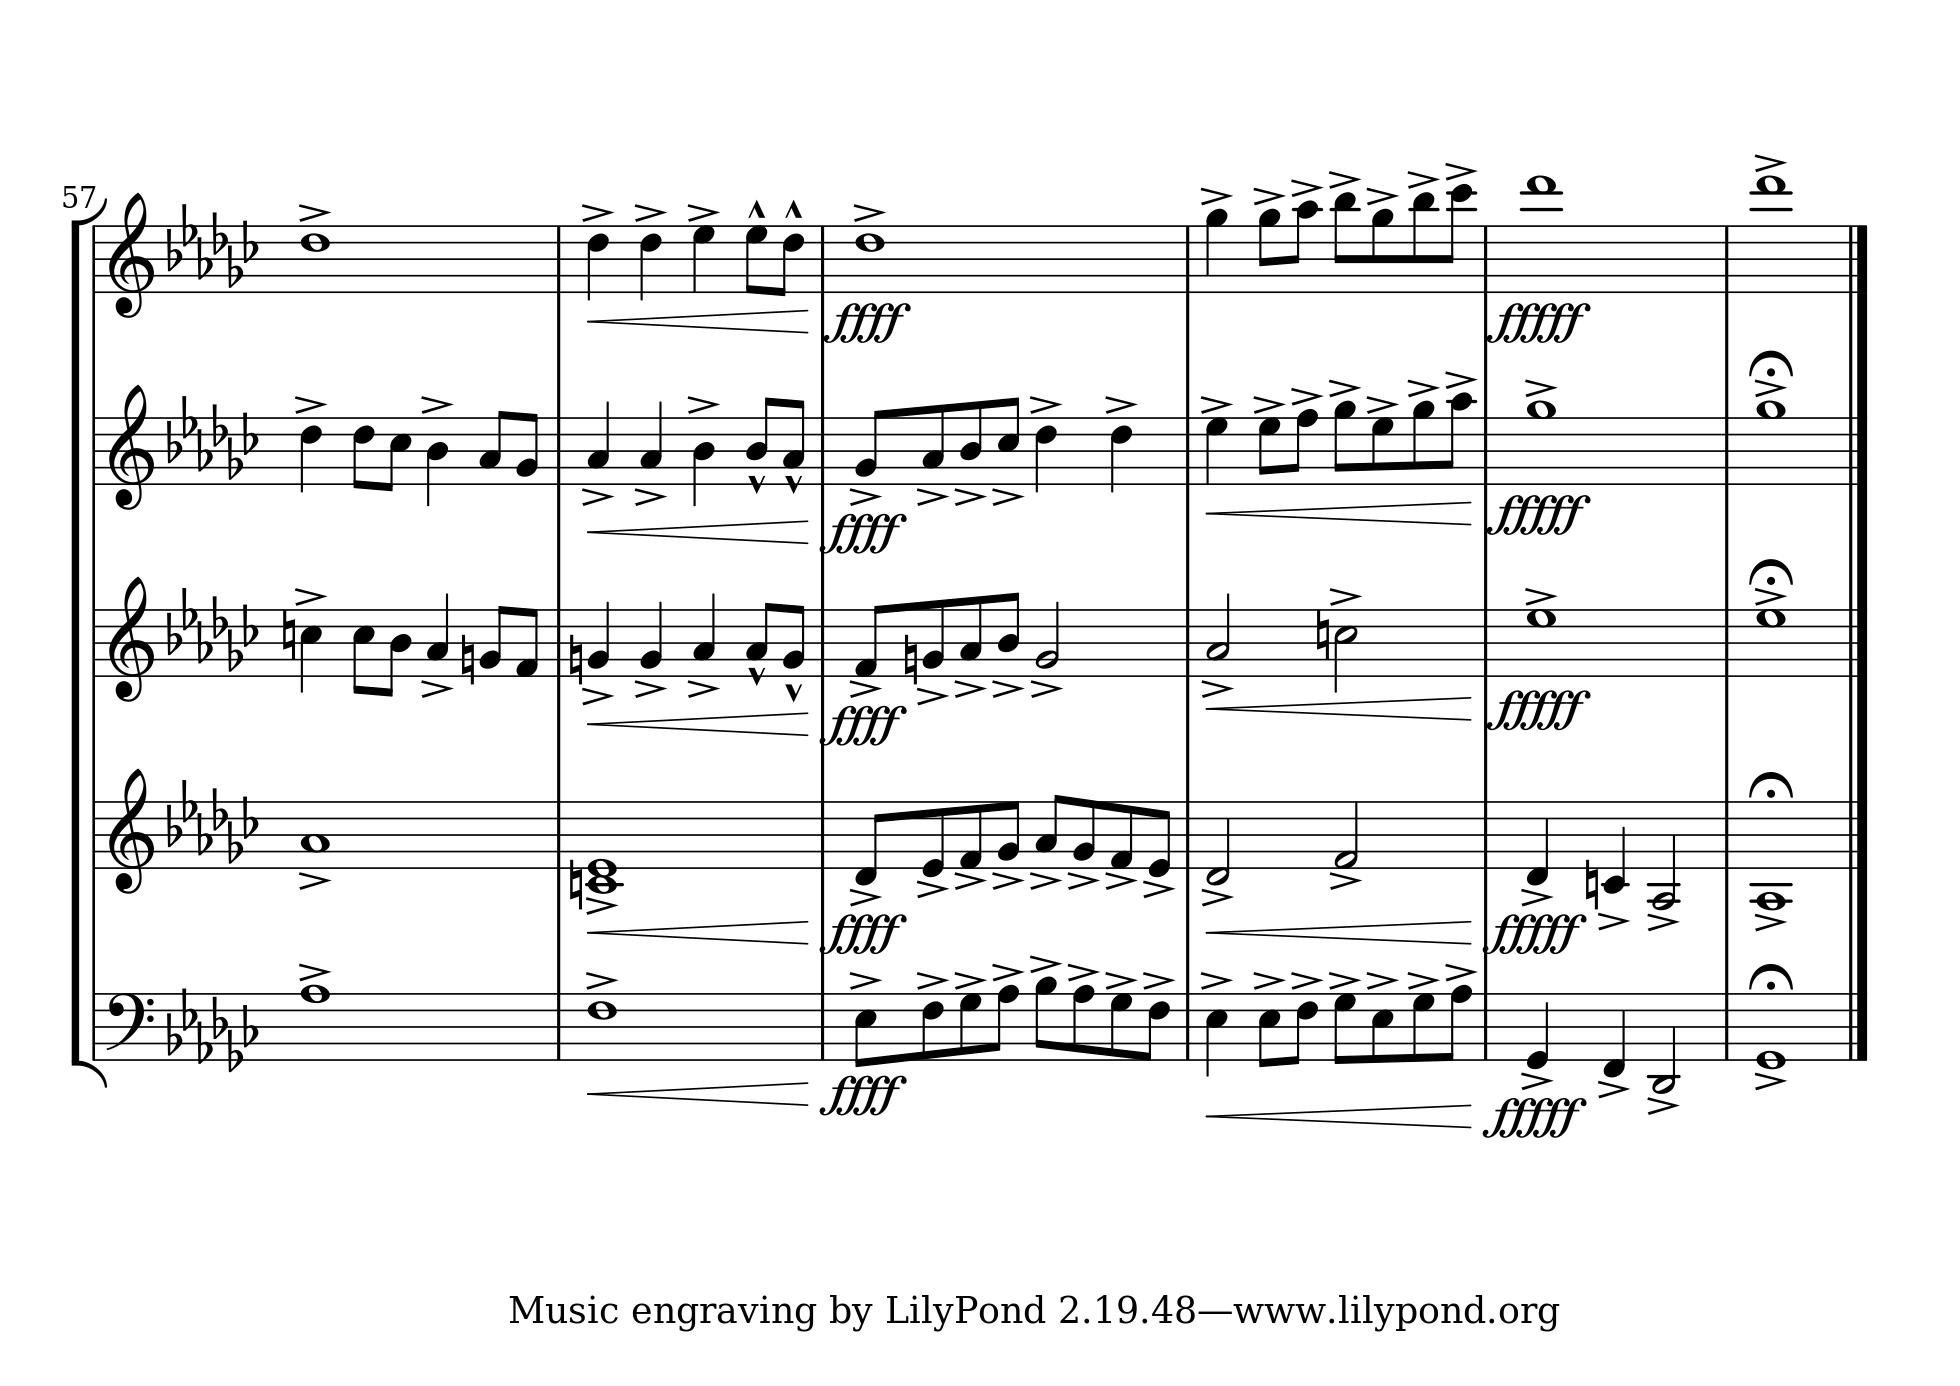1_-4: (1749, 798, 1792, 910)
1_0: (1755, 990, 1788, 1069)
1_13: (1521, 172, 1563, 292), (1752, 172, 1791, 295)
1_3: (298, 799, 330, 868)
1_6: (853, 223, 886, 295), (585, 991, 618, 1063), (300, 223, 331, 295)
1_7: (1524, 604, 1560, 678), (1753, 607, 1788, 678)
1_8: (298, 984, 333, 1063)
1_9: (1524, 397, 1558, 486), (1753, 400, 1788, 486)
2_-1: (1203, 798, 1233, 885)
2_-3: (1648, 988, 1680, 1092)
2_-4: (1647, 799, 1680, 910)
2_1: (1333, 798, 1362, 870)
2_2: (1035, 598, 1063, 678)
2_3: (1204, 589, 1233, 678)
2_5: (1332, 607, 1359, 694)
4_-1: (1524, 799, 1552, 885), (1600, 990, 1627, 1077)
4_-2: (1600, 798, 1629, 894)
4_0: (1524, 990, 1551, 1069)
4_2: (637, 598, 664, 676), (586, 598, 612, 678)
4_3: (424, 591, 451, 676), (691, 589, 717, 676), (639, 399, 664, 484), (586, 399, 610, 484)
4_4: (424, 415, 448, 508), (691, 415, 715, 507)
4_5: (1204, 991, 1230, 1078), (298, 607, 322, 694)
4_6: (637, 223, 663, 303), (1108, 414, 1134, 493), (1033, 415, 1059, 493), (298, 415, 322, 493), (586, 223, 609, 301)
4_7: (1203, 415, 1230, 486), (690, 223, 715, 294)
4_9: (1204, 207, 1230, 295)
5: (58, 181, 81, 214)
7: (75, 183, 100, 210)
8_-1: (852, 798, 886, 886)
8_0: (919, 799, 946, 877), (1147, 798, 1173, 877)
8_1: (852, 601, 888, 678), (1108, 798, 1135, 871), (514, 606, 540, 678), (958, 798, 984, 870)
8_10: (1441, 391, 1476, 487), (1288, 199, 1321, 294)
8_11: (1410, 190, 1440, 295), (1330, 190, 1359, 294)
8_12: (1440, 181, 1476, 292)
8_2: (853, 406, 886, 484), (478, 603, 508, 676), (919, 597, 946, 676), (1071, 796, 1098, 870), (514, 411, 540, 486), (781, 601, 807, 676), (996, 798, 1020, 868)
8_3: (478, 408, 508, 486), (1035, 792, 1065, 868), (919, 402, 946, 486), (744, 600, 774, 675), (957, 594, 984, 676), (781, 397, 805, 484)
8_4: (382, 607, 412, 697), (745, 394, 775, 483), (958, 399, 984, 486), (996, 589, 1021, 676)
8_5: (996, 394, 1021, 487), (382, 415, 412, 493), (351, 606, 375, 696), (853, 991, 877, 1068), (1257, 991, 1281, 1068), (1371, 991, 1395, 1063)
8_6: (1140, 991, 1173, 1063), (1290, 991, 1320, 1066), (775, 225, 805, 298), (919, 991, 945, 1063), (351, 415, 375, 490)
8_7: (1332, 990, 1357, 1065), (1108, 991, 1134, 1062), (1410, 991, 1435, 1062), (957, 991, 982, 1060), (744, 223, 768, 295), (1371, 415, 1395, 487), (1257, 415, 1281, 486)
8_8: (1441, 982, 1474, 1063), (1288, 406, 1320, 487), (990, 982, 1020, 1060), (1071, 982, 1095, 1062)
8_9: (1369, 207, 1396, 295), (1332, 399, 1359, 487), (1410, 399, 1437, 487), (1033, 975, 1059, 1062), (1257, 207, 1281, 294)
Accent_above: (1423, 165, 1476, 186), (1084, 961, 1135, 982), (1300, 172, 1347, 192), (1287, 384, 1326, 405), (1026, 952, 1065, 973), (1288, 175, 1326, 196), (988, 958, 1026, 979), (418, 393, 453, 415), (1326, 168, 1365, 187), (1326, 376, 1365, 396), (1251, 184, 1287, 205), (1404, 376, 1440, 397), (1251, 391, 1287, 412), (292, 393, 328, 414), (292, 585, 328, 606), (418, 676, 454, 697), (1102, 969, 1140, 988), (1752, 378, 1788, 397), (631, 486, 667, 505), (1200, 886, 1236, 906), (952, 967, 988, 987), (1200, 184, 1233, 205), (580, 201, 613, 222), (1444, 367, 1477, 388), (1524, 376, 1557, 397), (1104, 393, 1137, 414), (990, 868, 1023, 889), (1404, 169, 1441, 187), (1363, 186, 1401, 204), (1363, 394, 1401, 412), (1065, 961, 1102, 979), (297, 201, 331, 220), (685, 678, 720, 697), (952, 678, 987, 697), (1200, 678, 1234, 697), (297, 870, 331, 889), (297, 960, 331, 979), (1143, 877, 1174, 898), (1752, 151, 1788, 169), (1443, 160, 1479, 178), (685, 202, 721, 220), (1752, 586, 1788, 604), (1327, 871, 1363, 889), (583, 895, 619, 913), (852, 202, 885, 222), (1029, 393, 1062, 412), (685, 394, 718, 414), (580, 486, 613, 505), (1524, 585, 1557, 604), (580, 684, 613, 703), (1596, 910, 1629, 930), (847, 969, 880, 988), (1290, 969, 1323, 988), (1647, 1095, 1680, 1114), (1200, 393, 1230, 414), (633, 202, 667, 220), (633, 679, 667, 697), (915, 969, 949, 987), (952, 486, 984, 505), (991, 486, 1023, 505), (849, 678, 880, 697), (991, 678, 1023, 697), (1029, 868, 1060, 888), (952, 870, 984, 889), (1066, 870, 1098, 889), (1104, 870, 1135, 889), (1755, 912, 1786, 931), (1143, 969, 1174, 988), (1329, 969, 1360, 988), (1329, 586, 1362, 604), (1521, 886, 1554, 904), (583, 970, 616, 988), (1200, 970, 1233, 988), (1521, 1069, 1554, 1087), (1596, 1080, 1629, 1098), (916, 877, 946, 897), (849, 486, 880, 504), (1030, 678, 1062, 696), (849, 886, 880, 904), (1252, 970, 1284, 988), (1753, 1071, 1785, 1089), (1647, 913, 1680, 930), (916, 487, 946, 505), (916, 685, 946, 703)
Bracke: (67, 202, 109, 1090)
Fclef: (102, 991, 154, 1062)
Fermata_above: (1749, 348, 1794, 378), (1749, 558, 1792, 586), (1749, 769, 1792, 796), (1749, 961, 1792, 988)
Final_barline: (1845, 223, 1870, 289), (1845, 415, 1869, 483), (1845, 799, 1869, 867), (1845, 607, 1869, 673), (1845, 993, 1869, 1057)
G_F: (163, 583, 262, 672), (163, 391, 261, 478), (165, 775, 261, 862), (165, 201, 261, 286), (166, 985, 259, 1069)
Gclef: (106, 574, 156, 705), (106, 382, 154, 513), (106, 766, 154, 895), (106, 192, 154, 319)
Marcato_above: (781, 199, 801, 220), (747, 472, 766, 493), (784, 472, 804, 493), (748, 664, 766, 687), (747, 199, 765, 219), (784, 681, 802, 700)
Natural: (1314, 607, 1332, 661), (567, 855, 583, 910), (901, 631, 918, 684), (1584, 856, 1600, 909), (567, 631, 583, 682), (460, 631, 475, 685), (280, 607, 295, 660)
Single_barline: (1476, 226, 1494, 292), (1179, 609, 1197, 675), (1179, 801, 1197, 867), (1476, 801, 1494, 867), (1179, 226, 1197, 291), (813, 802, 831, 867), (550, 993, 568, 1057), (550, 607, 567, 676), (1180, 991, 1197, 1060), (1182, 417, 1198, 484), (1719, 225, 1735, 291), (1477, 993, 1494, 1059), (550, 226, 567, 291), (85, 418, 102, 483), (1477, 609, 1494, 673), (1719, 609, 1735, 673), (85, 610, 102, 675), (550, 801, 567, 865), (1717, 801, 1734, 865), (85, 802, 102, 867), (85, 993, 102, 1057), (1719, 418, 1735, 481), (550, 415, 565, 484), (814, 225, 829, 292), (87, 226, 102, 292), (814, 415, 829, 480), (814, 607, 829, 672), (814, 993, 829, 1057), (1719, 993, 1734, 1057), (1479, 415, 1492, 483)
ffff: (820, 700, 909, 748), (820, 907, 909, 955), (823, 298, 912, 345), (820, 508, 909, 555), (820, 1071, 907, 1117)
fffff: (1483, 300, 1594, 343), (1483, 492, 1593, 535), (1482, 1095, 1590, 1138), (1485, 688, 1593, 730), (1486, 910, 1585, 954)
